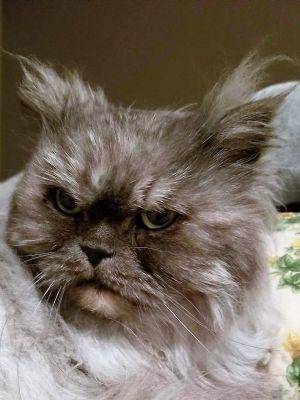persian: (4, 35, 281, 345)
